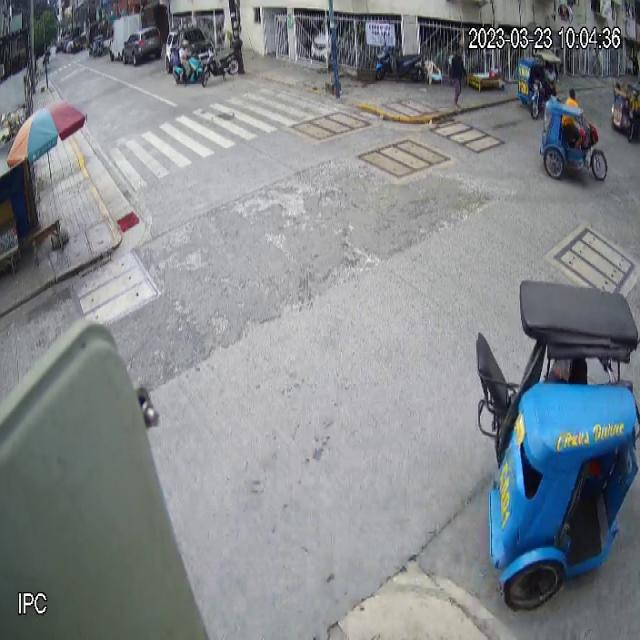Tricycle: (475, 279, 640, 612), (539, 98, 608, 182), (517, 52, 559, 120)
